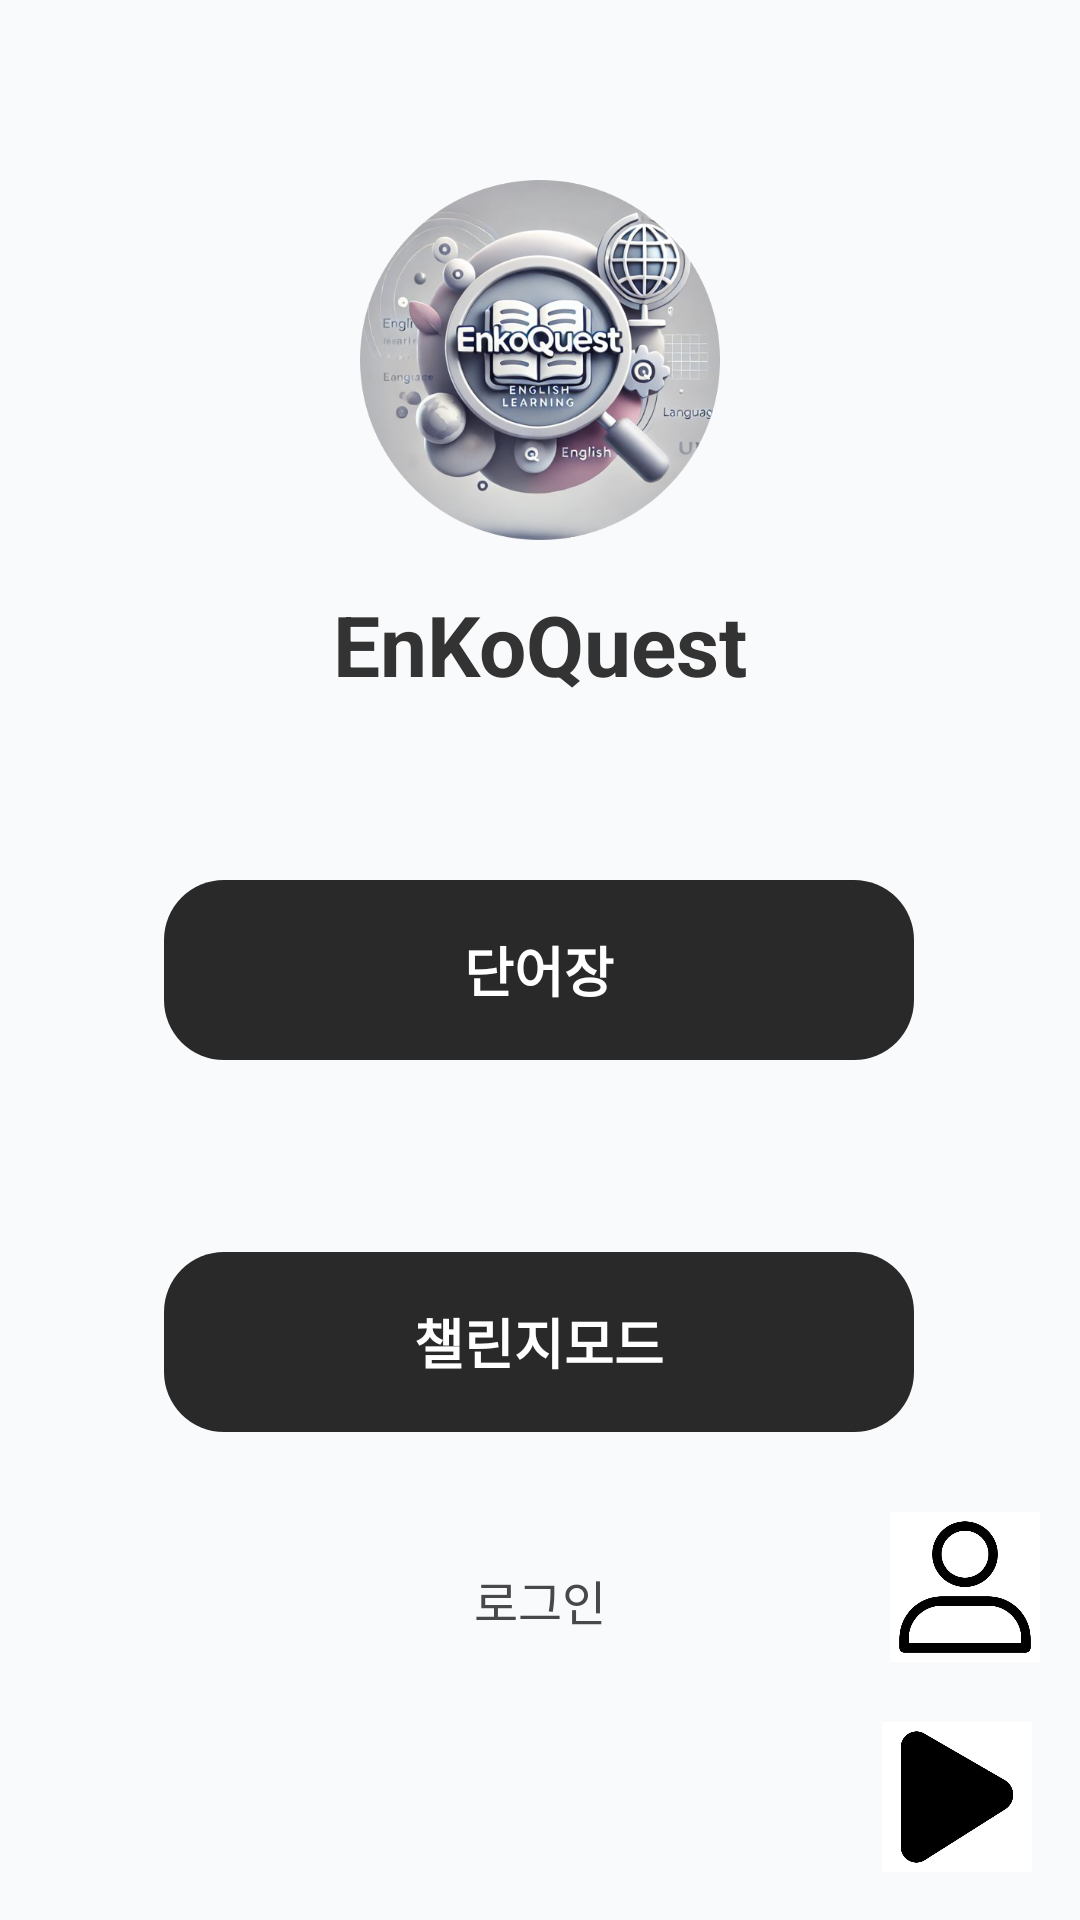

Icon bounding boxes for this 1080px×1920px phone screenshot, format (x1, y1, x2, y2):
마이페이지 이미지 버튼: (899, 1521, 1031, 1653)
음악 버튼: (901, 1731, 1013, 1863)
